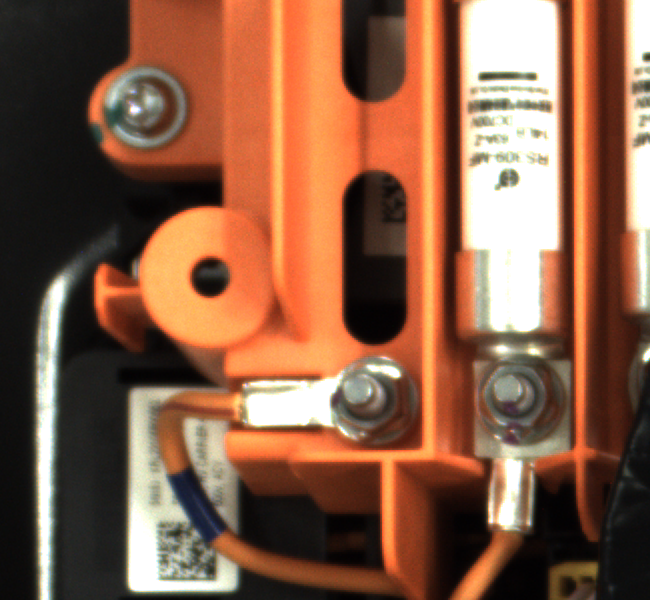screw_m: (99, 61, 215, 165)
screw_s: (463, 346, 578, 452), (316, 354, 420, 450)
